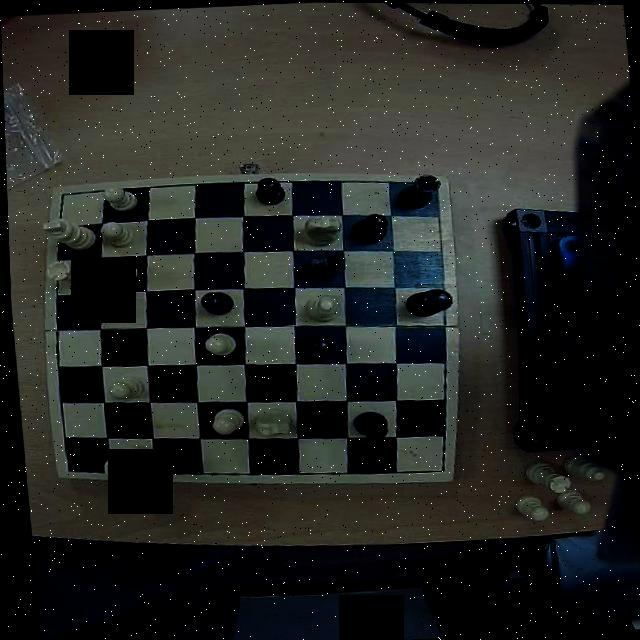chess-table-corners: (418, 448, 448, 480), (414, 176, 444, 207), (55, 452, 84, 481), (49, 187, 78, 211)
